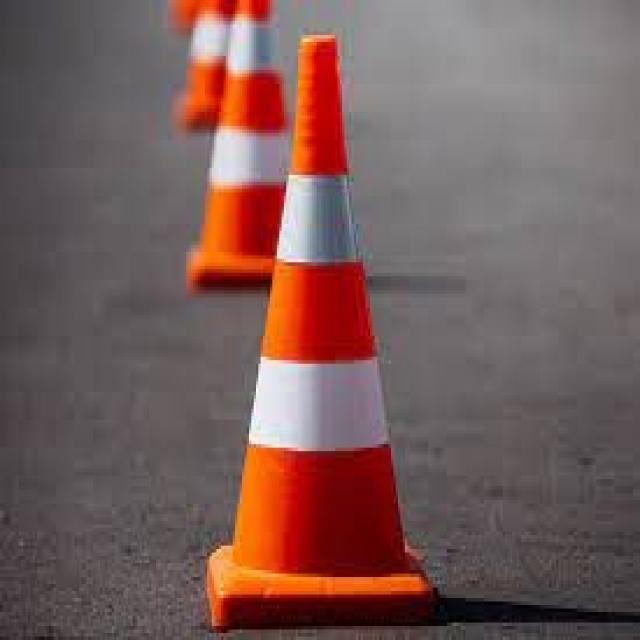Traffic-cone: (246, 32, 440, 621), (207, 0, 298, 283), (172, 0, 232, 143)
